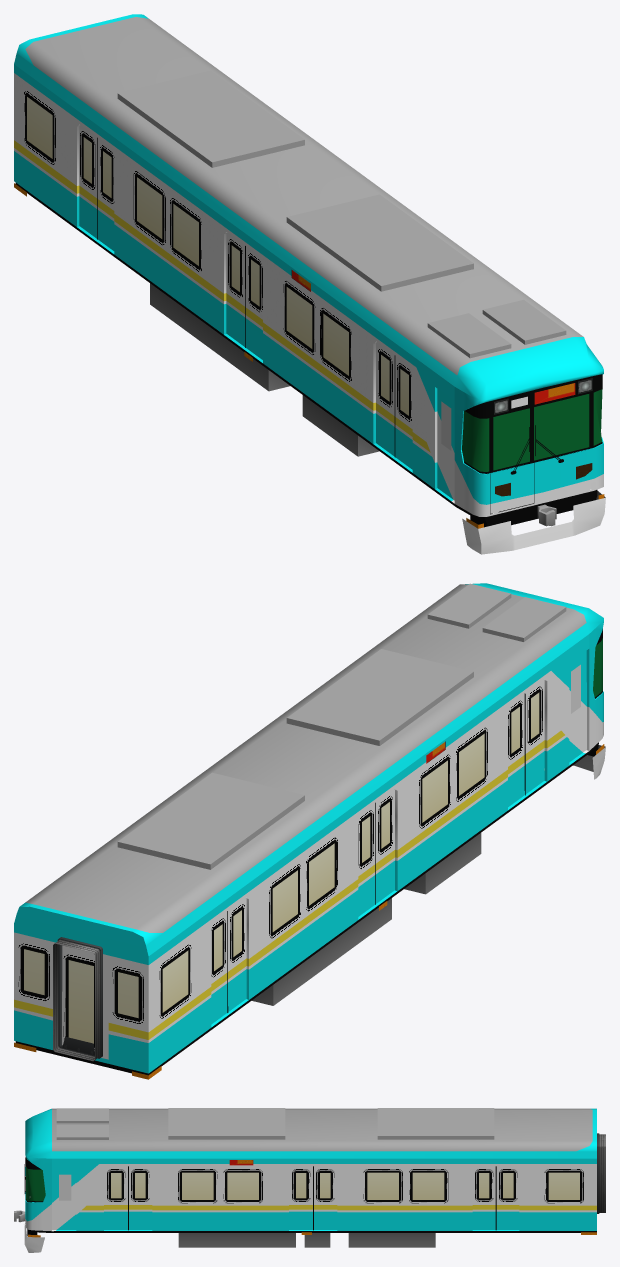
The picture shows the model from 3 angles, top to bottom: view 1: azimuth 30°, elevation 25°; view 2: azimuth 150°, elevation 25°; view 3: azimuth 270°, elevation 25°; orthographic projection. The views are drawn at different scales.
Parts seen in each view (by area): view 1: K; view 2: K; view 3: K.
Part boxes in pixels (x1,y1,x2,y2): K: (14,14,605,554); K: (14,583,605,1079); K: (14,1108,605,1252).
Size of the model in its own units: 6.09 by 7.86 by 37.2.
Materials: 20 (19 with a texture image).
